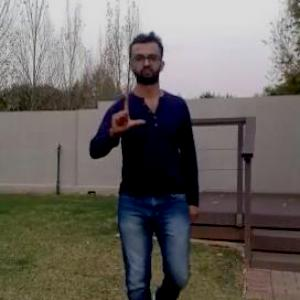land_hand: (105, 85, 149, 138)
